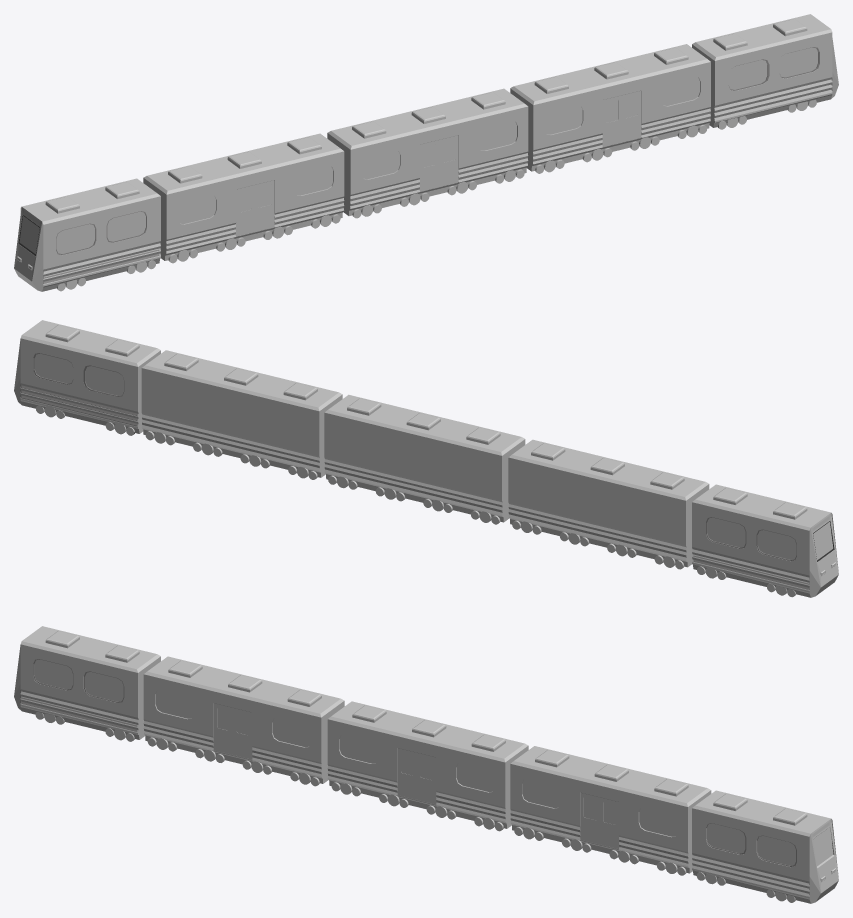
Rendered from Train2.fbx.
3 renders of one model, top to bottom at view 1: azimuth 30°, elevation 25°; view 2: azimuth 150°, elevation 25°; view 3: azimuth 330°, elevation 25°, orthographic.
Visible parts, largest first — view 1: 4, 2, 3, 1, 5; view 2: 4, 2, 3, 1, 5; view 3: 2, 4, 3, 5, 1.
Boxes of the visible parts, box(x1,y1,x2,y2) form: 4: box(327, 88, 528, 218); 2: box(143, 133, 344, 263); 3: box(510, 44, 710, 173); 1: box(14, 178, 160, 291); 5: box(692, 14, 838, 129); 4: box(324, 394, 525, 524); 2: box(508, 439, 709, 569); 3: box(141, 350, 342, 479); 1: box(692, 484, 838, 597); 5: box(14, 320, 160, 435); 2: box(143, 656, 344, 786); 4: box(327, 701, 528, 831); 3: box(510, 746, 711, 875); 5: box(692, 790, 838, 903); 1: box(14, 626, 160, 741).
Size of the model in its own units: 206 by 4135 by 383.
